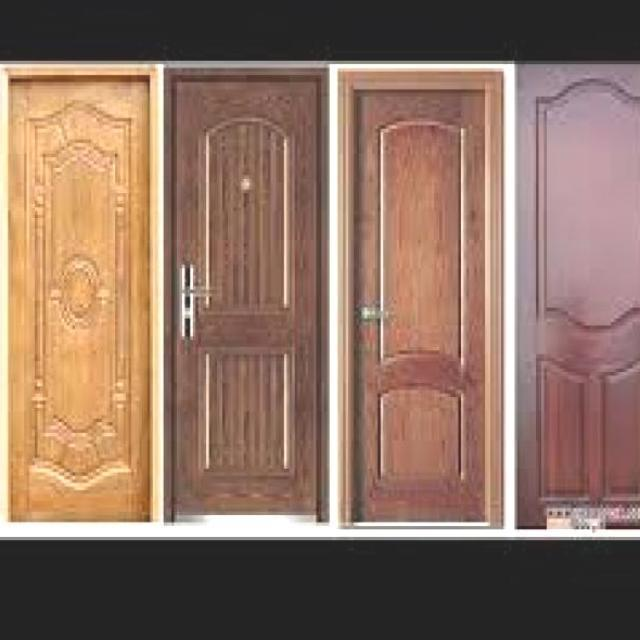door: (342, 69, 501, 527), (165, 68, 325, 522)
